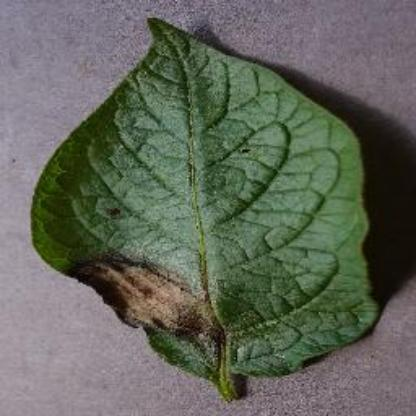Late-Blight: (22, 20, 396, 380)
